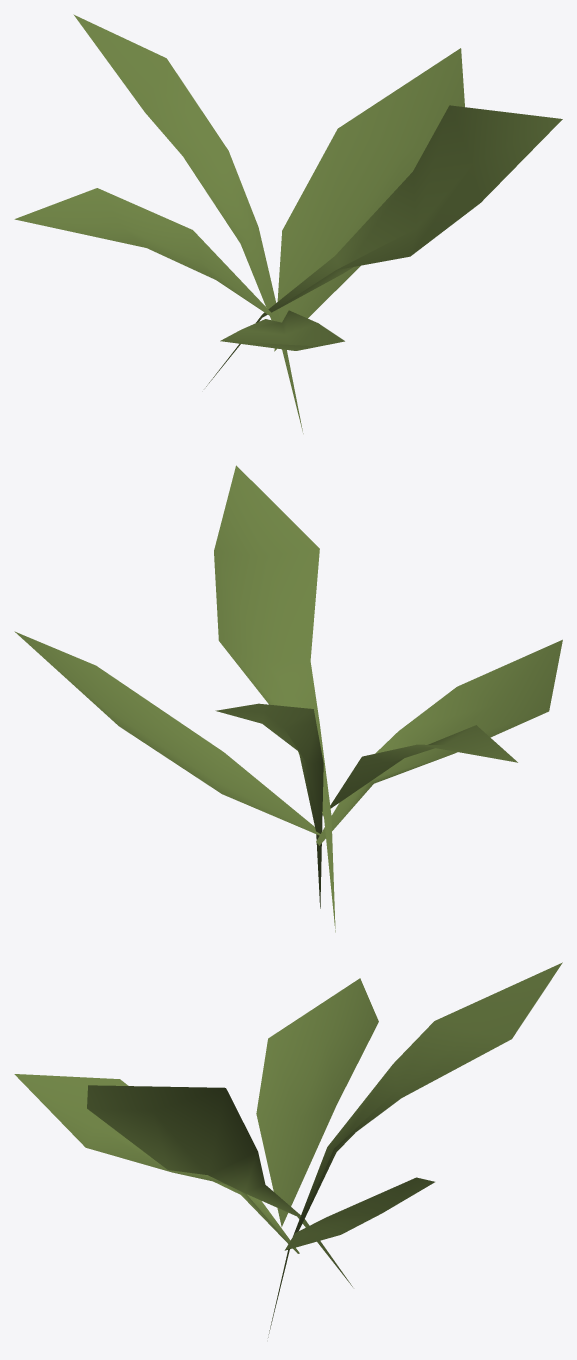
The model's file is Weed4.fbx.
3 views of the same model, one above another, from view 1: azimuth 30°, elevation 25°; view 2: azimuth 150°, elevation 25°; view 3: azimuth 270°, elevation 25° (orthographic).
Parts seen in each view (by area): view 1: Weed_Dandellion_A_spring-summer.031; view 2: Weed_Dandellion_A_spring-summer.031; view 3: Weed_Dandellion_A_spring-summer.031.
Part boxes in pixels (x1,y1,x2,y2): Weed_Dandellion_A_spring-summer.031: (14,14,562,433); Weed_Dandellion_A_spring-summer.031: (14,465,562,932); Weed_Dandellion_A_spring-summer.031: (14,962,562,1337).
Bounding box in the file's own units: 69.94 × 47.84 × 68.92.
